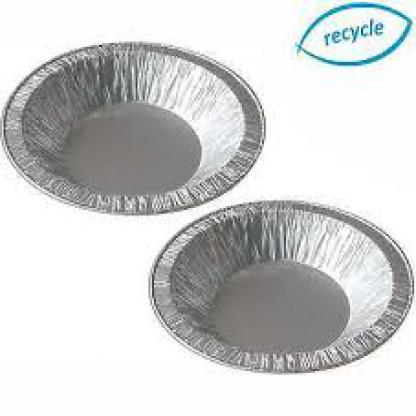Compsot: (0, 41, 264, 214), (147, 199, 412, 371)
